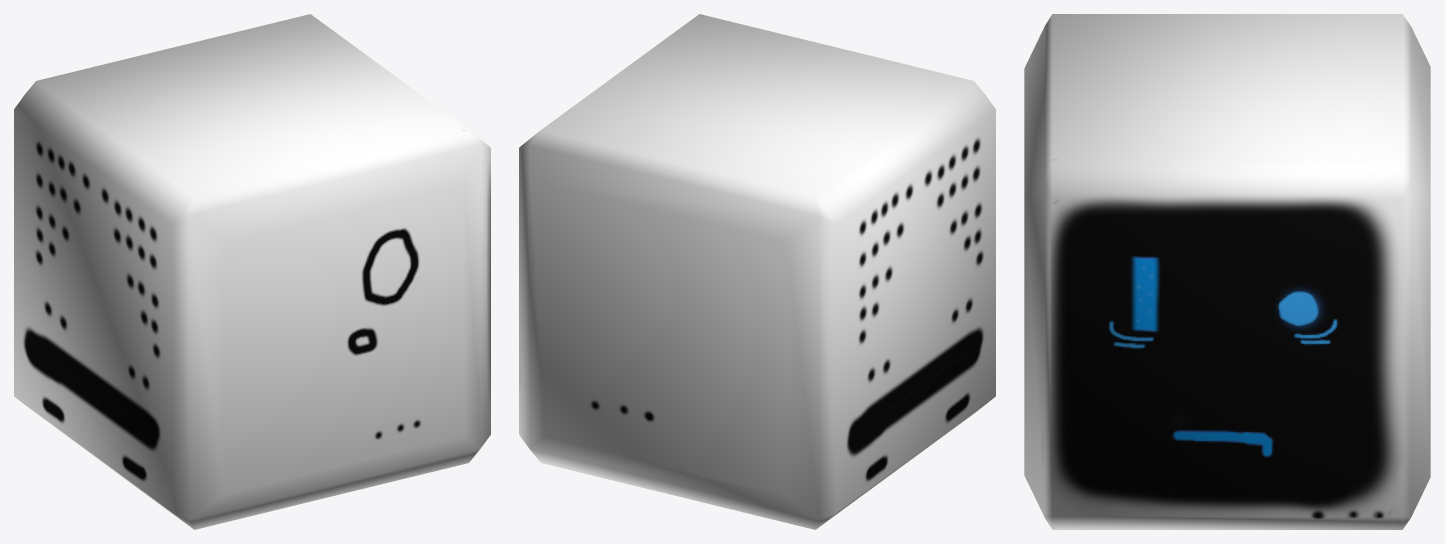
Rendered from bart.glb.
3 renders of one model, left to right at view 1: azimuth 30°, elevation 25°; view 2: azimuth 150°, elevation 25°; view 3: azimuth 270°, elevation 25°, orthographic. The views are drawn at different scales.
Visible parts, largest first — view 1: Bart_0; view 2: Bart_0; view 3: Bart_0.
Part boxes in pixels (bbox=[...]): Bart_0: bbox=[14, 14, 490, 529]; Bart_0: bbox=[519, 14, 995, 529]; Bart_0: bbox=[1024, 14, 1430, 529].
Bounding box in the file's own units: 0.854 × 0.854 × 0.854.
1 material, 1 textured.
